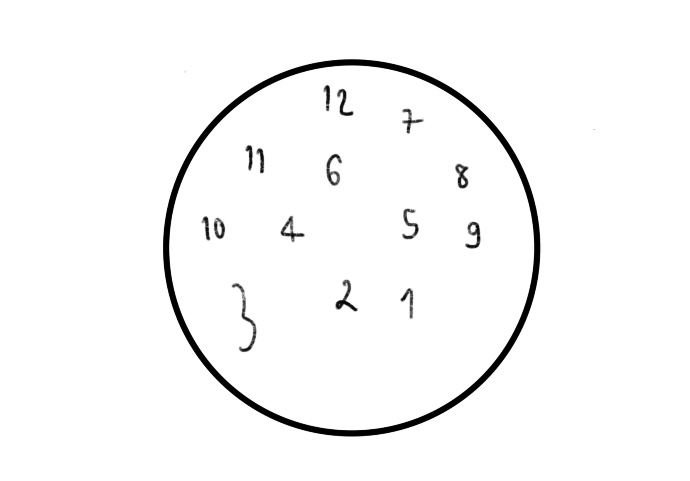eight: (448, 158, 473, 191)
eleven: (243, 142, 268, 175)
five: (395, 204, 424, 240)
four: (278, 212, 306, 244)
nine: (461, 221, 485, 252)
one: (398, 285, 418, 322)
seven: (396, 104, 427, 138)
six: (323, 151, 346, 187)
ten: (201, 212, 229, 245)
three: (227, 273, 262, 363)
twelve: (320, 82, 357, 119)
two: (329, 277, 361, 317)
